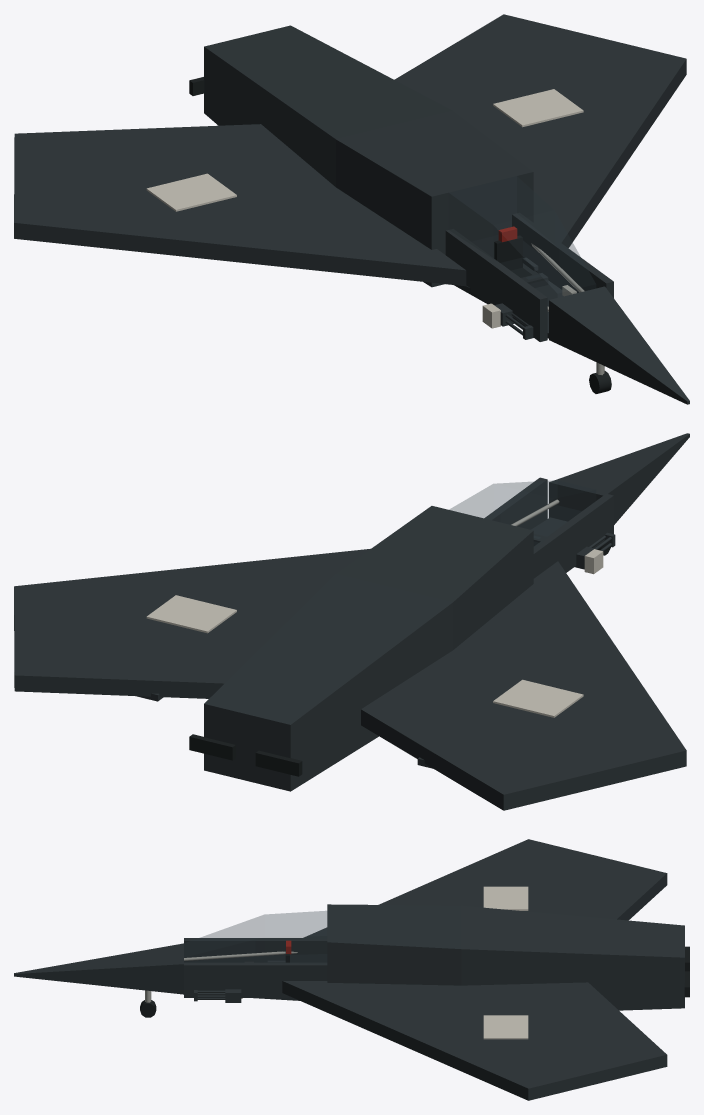
3 renders of one model, top to bottom at view 1: azimuth 30°, elevation 25°; view 2: azimuth 150°, elevation 25°; view 3: azimuth 270°, elevation 25°, orthographic. The views are drawn at different scales.
Parts seen in each view (by area): view 1: stealth-jet-painted, stealth-canopy-glazing, crew-chair-pilot-painted, machine-gun-fixed-pitch-stealth-left-painted; view 2: stealth-jet-painted, stealth-canopy-glazing, machine-gun-fixed-pitch-stealth-left-painted; view 3: stealth-jet-painted, stealth-canopy-glazing.
Part boxes in pixels (box(x1,y1,x2,y2)): stealth-jet-painted: box(14, 14, 689, 404); stealth-canopy-glazing: box(449, 176, 595, 312); crew-chair-pilot-painted: box(494, 226, 548, 287); machine-gun-fixed-pitch-stealth-left-painted: box(482, 303, 513, 328); stealth-jet-painted: box(14, 433, 689, 810); stealth-canopy-glazing: box(449, 480, 595, 548); machine-gun-fixed-pitch-stealth-left-painted: box(575, 546, 603, 574); stealth-jet-painted: box(14, 839, 689, 1100); stealth-canopy-glazing: box(184, 911, 326, 963).
Size of the model in its own units: 78.16 by 13.45 by 89.47.
